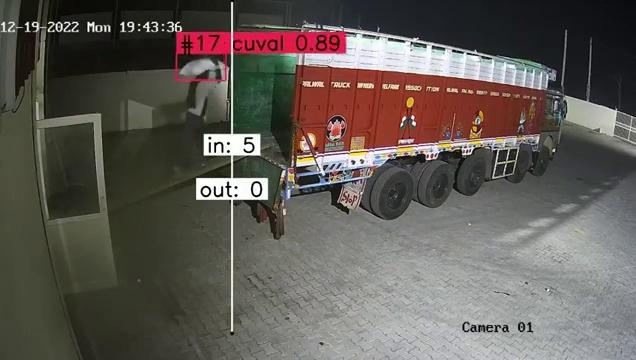karung: (178, 55, 224, 77)
